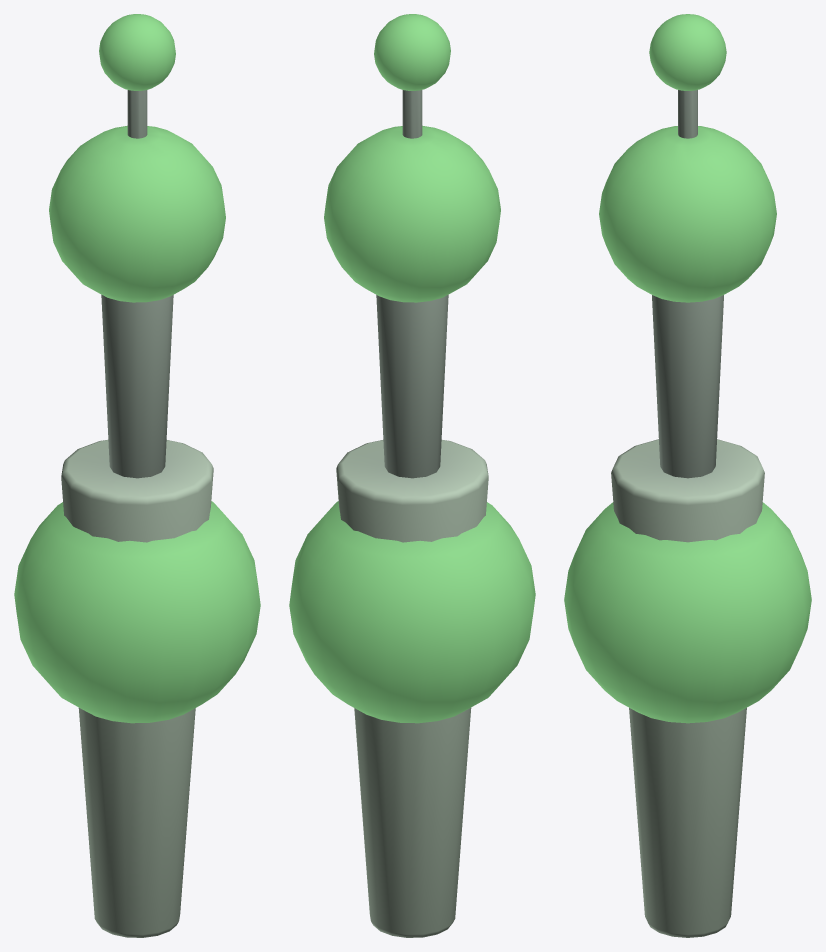
3 renders of one model, left to right at view 1: azimuth 30°, elevation 25°; view 2: azimuth 150°, elevation 25°; view 3: azimuth 270°, elevation 25°, orthographic.
Parts seen in each view (by area): view 1: landmark_da20ede8; view 2: landmark_da20ede8; view 3: landmark_da20ede8.
Part boxes in pixels (x1,y1,x2,y2): landmark_da20ede8: (14, 14, 260, 937); landmark_da20ede8: (289, 14, 535, 937); landmark_da20ede8: (564, 14, 811, 937).
Size of the model in its own units: 3.2 by 12.9 by 3.2.
